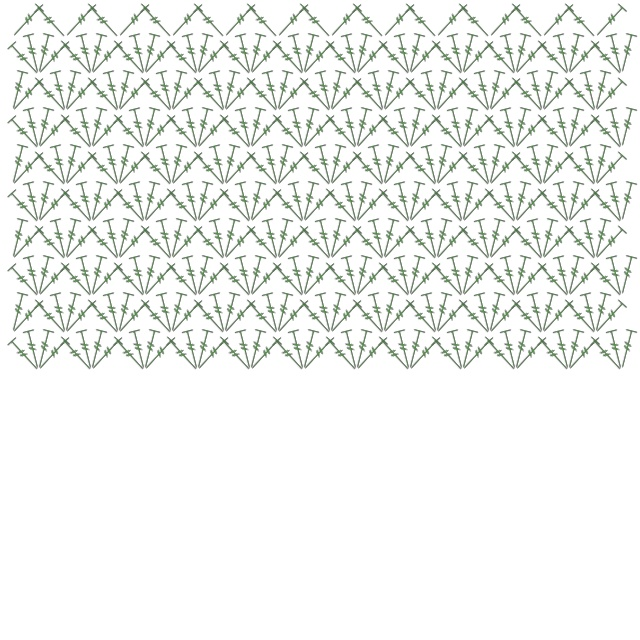fan: (7, 1, 47, 42), (32, 1, 72, 42), (60, 1, 100, 42), (85, 1, 125, 42), (113, 1, 153, 42), (138, 1, 178, 42), (166, 1, 206, 42), (191, 1, 231, 42), (219, 1, 259, 42), (244, 1, 284, 42), (272, 1, 312, 42), (297, 1, 337, 42), (325, 1, 365, 42), (350, 1, 390, 42), (378, 1, 418, 42), (403, 1, 443, 42), (431, 1, 471, 42), (456, 1, 496, 42), (484, 1, 524, 42), (509, 1, 549, 42), (537, 1, 577, 42), (562, 1, 602, 42), (590, 1, 630, 42), (5, 38, 45, 79), (33, 38, 73, 79), (58, 38, 98, 79), (86, 38, 126, 79), (111, 38, 151, 79), (139, 38, 179, 79), (164, 38, 204, 79), (192, 38, 232, 79), (217, 38, 257, 79), (245, 38, 285, 79), (270, 38, 310, 79), (298, 38, 338, 79), (323, 38, 363, 79), (351, 38, 391, 79), (376, 38, 416, 79), (404, 38, 444, 79), (429, 38, 469, 79), (457, 38, 497, 79), (482, 38, 522, 79), (510, 38, 550, 79), (535, 38, 575, 79), (563, 38, 603, 79), (588, 38, 628, 79), (7, 75, 47, 116), (32, 75, 72, 116), (60, 75, 100, 116), (85, 75, 125, 116), (113, 75, 153, 116), (138, 75, 178, 116), (166, 75, 206, 116), (191, 75, 231, 116), (219, 75, 259, 116), (244, 75, 284, 116), (272, 75, 312, 116), (297, 75, 337, 116), (325, 75, 365, 116), (350, 75, 390, 116), (378, 75, 418, 116), (403, 75, 443, 116), (431, 75, 471, 116), (456, 75, 496, 116), (484, 75, 524, 116), (509, 75, 549, 116), (537, 75, 577, 116), (562, 75, 602, 116), (590, 75, 630, 116), (5, 112, 45, 153), (33, 112, 73, 153), (58, 112, 98, 153), (86, 112, 126, 153), (111, 112, 151, 153), (139, 112, 179, 153), (164, 112, 204, 153), (192, 112, 232, 153), (217, 112, 257, 153), (245, 112, 285, 153), (270, 112, 310, 153), (298, 112, 338, 153), (323, 112, 363, 153), (351, 112, 391, 153), (376, 112, 416, 153), (404, 112, 444, 153), (429, 112, 469, 153), (457, 112, 497, 153), (482, 112, 522, 153), (510, 112, 550, 153), (535, 112, 575, 153), (563, 112, 603, 153), (588, 112, 628, 153), (7, 149, 47, 190), (32, 149, 72, 190), (60, 149, 100, 190), (85, 149, 125, 190), (113, 149, 153, 190), (138, 149, 178, 190), (166, 149, 206, 190), (191, 149, 231, 190), (219, 149, 259, 190), (244, 149, 284, 190), (272, 149, 312, 190), (297, 149, 337, 190), (325, 149, 365, 190), (350, 149, 390, 190), (378, 149, 418, 190), (403, 149, 443, 190), (431, 149, 471, 190), (456, 149, 496, 190), (484, 149, 524, 190), (509, 149, 549, 190), (537, 149, 577, 190), (562, 149, 602, 190), (590, 149, 630, 190), (5, 186, 45, 227), (33, 186, 73, 227), (58, 186, 98, 227), (86, 186, 126, 227), (111, 186, 151, 227), (139, 186, 179, 227), (164, 186, 204, 227), (192, 186, 232, 227), (217, 186, 257, 227), (245, 186, 285, 227), (270, 186, 310, 227), (298, 186, 338, 227), (323, 186, 363, 227), (351, 186, 391, 227), (376, 186, 416, 227), (404, 186, 444, 227), (429, 186, 469, 227), (457, 186, 497, 227), (482, 186, 522, 227), (510, 186, 550, 227), (535, 186, 575, 227), (563, 186, 603, 227), (588, 186, 628, 227), (7, 223, 47, 264), (32, 223, 72, 264), (60, 223, 100, 264), (85, 223, 125, 264), (113, 223, 153, 264), (138, 223, 178, 264), (166, 223, 206, 264), (191, 223, 231, 264), (219, 223, 259, 264), (244, 223, 284, 264), (272, 223, 312, 264), (297, 223, 337, 264), (325, 223, 365, 264), (350, 223, 390, 264), (378, 223, 418, 264), (403, 223, 443, 264), (431, 223, 471, 264), (456, 223, 496, 264), (484, 223, 524, 264), (509, 223, 549, 264), (537, 223, 577, 264), (562, 223, 602, 264), (590, 223, 630, 264), (5, 260, 45, 301), (33, 260, 73, 301), (58, 260, 98, 301), (86, 260, 126, 301), (111, 260, 151, 301), (139, 260, 179, 301), (164, 260, 204, 301), (192, 260, 232, 301), (217, 260, 257, 301), (245, 260, 285, 301), (270, 260, 310, 301), (298, 260, 338, 301), (323, 260, 363, 301), (351, 260, 391, 301), (376, 260, 416, 301), (404, 260, 444, 301), (429, 260, 469, 301), (457, 260, 497, 301), (482, 260, 522, 301), (510, 260, 550, 301), (535, 260, 575, 301), (563, 260, 603, 301), (588, 260, 628, 301), (7, 297, 47, 338), (32, 297, 72, 338), (60, 297, 100, 338), (85, 297, 125, 338), (113, 297, 153, 338), (138, 297, 178, 338), (166, 297, 206, 338), (191, 297, 231, 338), (219, 297, 259, 338), (244, 297, 284, 338), (272, 297, 312, 338), (297, 297, 337, 338), (325, 297, 365, 338), (350, 297, 390, 338), (378, 297, 418, 338), (403, 297, 443, 338), (431, 297, 471, 338), (456, 297, 496, 338), (484, 297, 524, 338), (509, 297, 549, 338), (537, 297, 577, 338), (562, 297, 602, 338), (590, 297, 630, 338), (5, 334, 45, 375), (33, 334, 73, 375), (58, 334, 98, 375), (86, 334, 126, 375), (111, 334, 151, 375), (139, 334, 179, 375), (164, 334, 204, 375), (192, 334, 232, 375), (217, 334, 257, 375), (245, 334, 285, 375), (270, 334, 310, 375), (298, 334, 338, 375), (323, 334, 363, 375), (351, 334, 391, 375), (376, 334, 416, 375), (404, 334, 444, 375), (429, 334, 469, 375), (457, 334, 497, 375), (482, 334, 522, 375), (510, 334, 550, 375), (535, 334, 575, 375), (563, 334, 603, 375), (588, 334, 628, 375), (21, 31, 46, 76), (32, 31, 57, 76), (74, 31, 99, 76), (85, 31, 110, 76), (127, 31, 152, 76), (138, 31, 163, 76), (180, 31, 205, 76), (191, 31, 216, 76), (233, 31, 258, 76), (244, 31, 269, 76), (286, 31, 311, 76), (297, 31, 322, 76), (339, 31, 364, 76), (350, 31, 375, 76), (392, 31, 417, 76), (403, 31, 428, 76), (445, 31, 470, 76), (456, 31, 481, 76), (498, 31, 523, 76), (509, 31, 534, 76), (551, 31, 576, 76), (562, 31, 587, 76), (604, 31, 629, 76), (615, 31, 640, 76), (6, 68, 31, 113), (48, 68, 73, 113), (59, 68, 84, 113), (101, 68, 126, 113), (112, 68, 137, 113), (154, 68, 179, 113), (165, 68, 190, 113), (207, 68, 232, 113), (218, 68, 243, 113), (260, 68, 285, 113), (271, 68, 296, 113), (313, 68, 338, 113), (324, 68, 349, 113), (366, 68, 391, 113), (377, 68, 402, 113), (419, 68, 444, 113), (430, 68, 455, 113), (472, 68, 497, 113), (483, 68, 508, 113), (525, 68, 550, 113), (536, 68, 561, 113), (578, 68, 603, 113), (589, 68, 614, 113), (21, 105, 46, 150), (32, 105, 57, 150), (74, 105, 99, 150), (85, 105, 110, 150), (127, 105, 152, 150), (138, 105, 163, 150), (180, 105, 205, 150), (191, 105, 216, 150), (233, 105, 258, 150), (244, 105, 269, 150), (286, 105, 311, 150), (297, 105, 322, 150), (339, 105, 364, 150), (350, 105, 375, 150), (392, 105, 417, 150), (403, 105, 428, 150), (445, 105, 470, 150), (456, 105, 481, 150), (498, 105, 523, 150), (509, 105, 534, 150), (551, 105, 576, 150), (562, 105, 587, 150), (604, 105, 629, 150), (615, 105, 640, 150), (6, 142, 31, 187), (48, 142, 73, 187), (59, 142, 84, 187), (101, 142, 126, 187), (112, 142, 137, 187), (154, 142, 179, 187), (165, 142, 190, 187), (207, 142, 232, 187), (218, 142, 243, 187), (260, 142, 285, 187), (271, 142, 296, 187), (313, 142, 338, 187), (324, 142, 349, 187), (366, 142, 391, 187), (377, 142, 402, 187), (419, 142, 444, 187), (430, 142, 455, 187), (472, 142, 497, 187), (483, 142, 508, 187), (525, 142, 550, 187), (536, 142, 561, 187), (578, 142, 603, 187), (589, 142, 614, 187), (21, 179, 46, 224), (32, 179, 57, 224), (74, 179, 99, 224), (85, 179, 110, 224), (127, 179, 152, 224), (138, 179, 163, 224), (180, 179, 205, 224), (191, 179, 216, 224), (233, 179, 258, 224), (244, 179, 269, 224), (286, 179, 311, 224), (297, 179, 322, 224), (339, 179, 364, 224), (350, 179, 375, 224), (392, 179, 417, 224), (403, 179, 428, 224), (445, 179, 470, 224), (456, 179, 481, 224), (498, 179, 523, 224), (509, 179, 534, 224), (551, 179, 576, 224), (562, 179, 587, 224), (604, 179, 629, 224), (615, 179, 640, 224), (6, 216, 31, 261), (48, 216, 73, 261), (59, 216, 84, 261), (101, 216, 126, 261), (112, 216, 137, 261), (154, 216, 179, 261), (165, 216, 190, 261), (207, 216, 232, 261), (218, 216, 243, 261), (260, 216, 285, 261), (271, 216, 296, 261), (313, 216, 338, 261), (324, 216, 349, 261), (366, 216, 391, 261), (377, 216, 402, 261), (419, 216, 444, 261), (430, 216, 455, 261), (472, 216, 497, 261), (483, 216, 508, 261), (525, 216, 550, 261), (536, 216, 561, 261), (578, 216, 603, 261), (589, 216, 614, 261), (21, 253, 46, 298), (32, 253, 57, 298), (74, 253, 99, 298), (85, 253, 110, 298), (127, 253, 152, 298), (138, 253, 163, 298), (180, 253, 205, 298), (191, 253, 216, 298), (233, 253, 258, 298), (244, 253, 269, 298), (286, 253, 311, 298), (297, 253, 322, 298), (339, 253, 364, 298), (350, 253, 375, 298), (392, 253, 417, 298), (403, 253, 428, 298), (445, 253, 470, 298), (456, 253, 481, 298), (498, 253, 523, 298), (509, 253, 534, 298), (551, 253, 576, 298), (562, 253, 587, 298), (604, 253, 629, 298), (615, 253, 640, 298), (6, 290, 31, 335), (48, 290, 73, 335), (59, 290, 84, 335), (101, 290, 126, 335), (112, 290, 137, 335), (154, 290, 179, 335), (165, 290, 190, 335), (207, 290, 232, 335), (218, 290, 243, 335), (260, 290, 285, 335), (271, 290, 296, 335), (313, 290, 338, 335), (324, 290, 349, 335), (366, 290, 391, 335), (377, 290, 402, 335), (419, 290, 444, 335), (430, 290, 455, 335), (472, 290, 497, 335), (483, 290, 508, 335), (525, 290, 550, 335), (536, 290, 561, 335), (578, 290, 603, 335), (589, 290, 614, 335), (21, 327, 46, 372), (32, 327, 57, 372), (74, 327, 99, 372), (85, 327, 110, 372), (127, 327, 152, 372), (138, 327, 163, 372), (180, 327, 205, 372), (191, 327, 216, 372), (233, 327, 258, 372), (244, 327, 269, 372), (286, 327, 311, 372), (297, 327, 322, 372), (339, 327, 364, 372), (350, 327, 375, 372), (392, 327, 417, 372), (403, 327, 428, 372), (445, 327, 470, 372), (456, 327, 481, 372), (498, 327, 523, 372), (509, 327, 534, 372), (551, 327, 576, 372), (562, 327, 587, 372), (604, 327, 629, 372), (615, 327, 640, 372)
